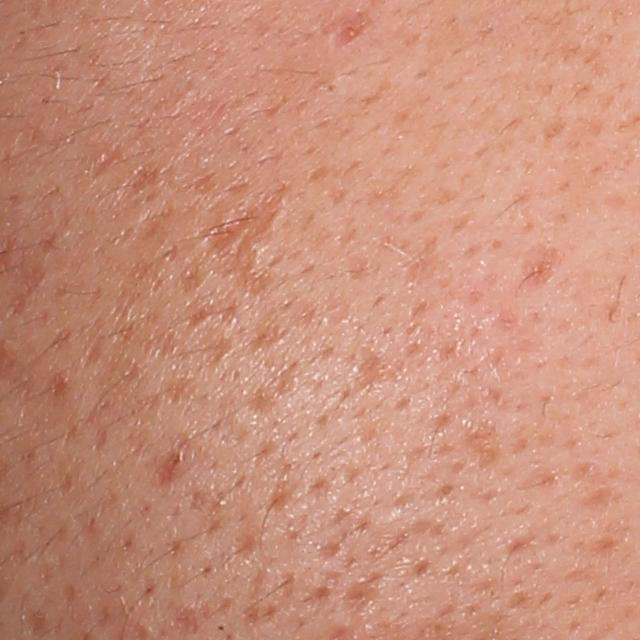atrophic_scar: (209, 182, 291, 268), (333, 568, 383, 622), (515, 241, 562, 293), (345, 346, 393, 394)
